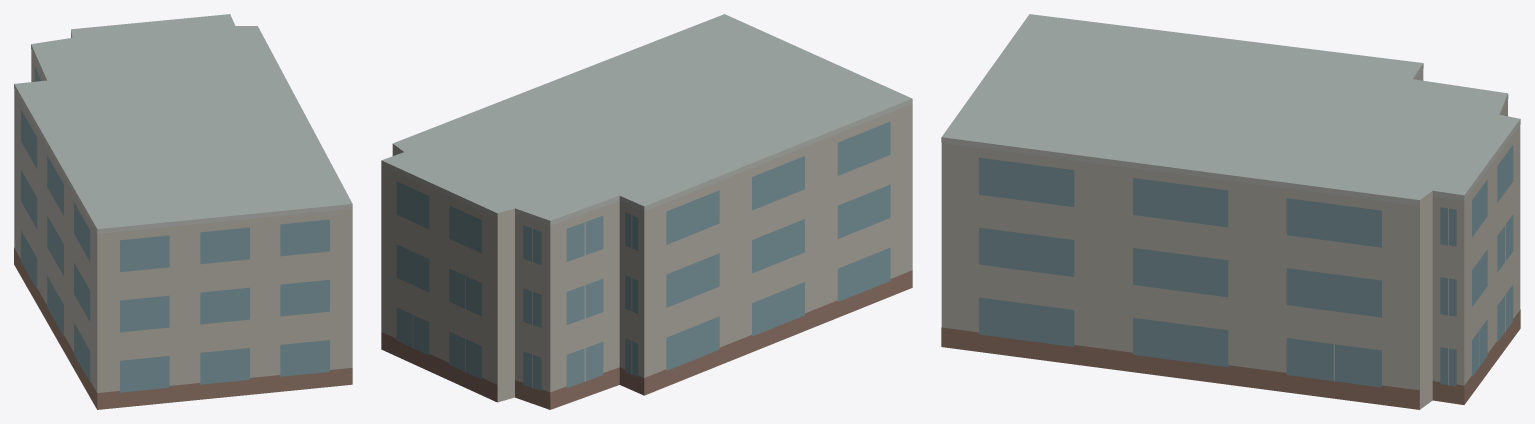
File: survey-upis-32571212.glb
The picture shows the model from 3 angles, left to right: view 1: azimuth 30°, elevation 25°; view 2: azimuth 150°, elevation 25°; view 3: azimuth 270°, elevation 25°; orthographic projection. The views are drawn at different scales.
Visible parts, largest first — view 1: survey-upis-32571212.tmp; view 2: survey-upis-32571212.tmp; view 3: survey-upis-32571212.tmp.
Boxes of the visible parts, x1,y1,x2,y2 form: survey-upis-32571212.tmp: [14, 14, 352, 409]; survey-upis-32571212.tmp: [381, 14, 912, 409]; survey-upis-32571212.tmp: [941, 14, 1520, 409].
Size of the model in its own units: 17.42 by 9.15 by 22.9.
